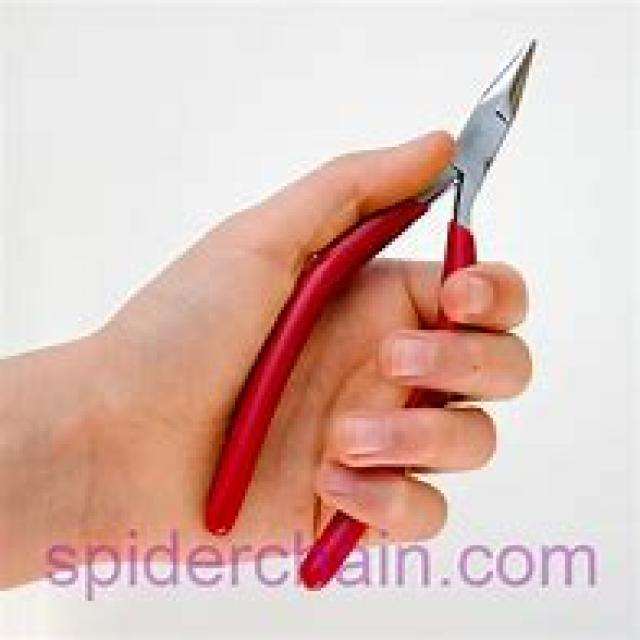pliers: (198, 33, 545, 597)
